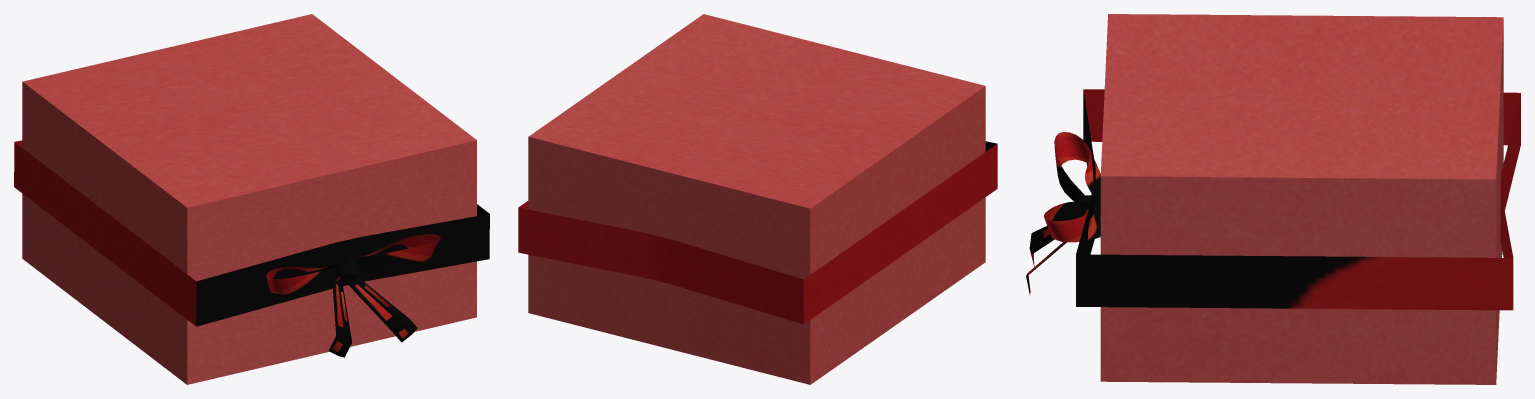
Rendered from MDL_RedAndyellowPresent.fbx.
3 renders of one model, left to right at view 1: azimuth 30°, elevation 25°; view 2: azimuth 150°, elevation 25°; view 3: azimuth 270°, elevation 25°, orthographic. The views are drawn at different scales.
Visible parts, largest first — view 1: MDL_RedAndyellowPresent; view 2: MDL_RedAndyellowPresent; view 3: MDL_RedAndyellowPresent.
Boxes of the visible parts, x1=… form: MDL_RedAndyellowPresent: x1=14, y1=14, x2=489, y2=384; MDL_RedAndyellowPresent: x1=518, y1=14, x2=997, y2=384; MDL_RedAndyellowPresent: x1=1026, y1=14, x2=1520, y2=384.
Size of the model in its own units: 33.87 by 19.34 by 42.2.
